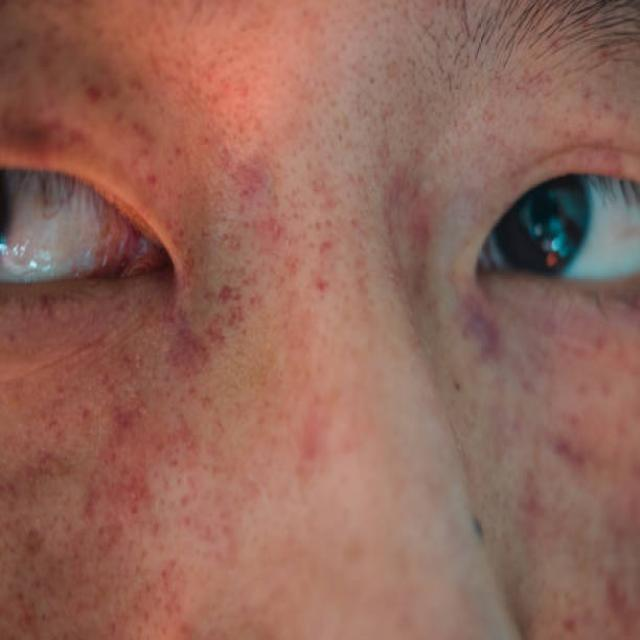Eczema: (445, 285, 629, 632), (12, 427, 217, 640), (182, 162, 342, 414)
